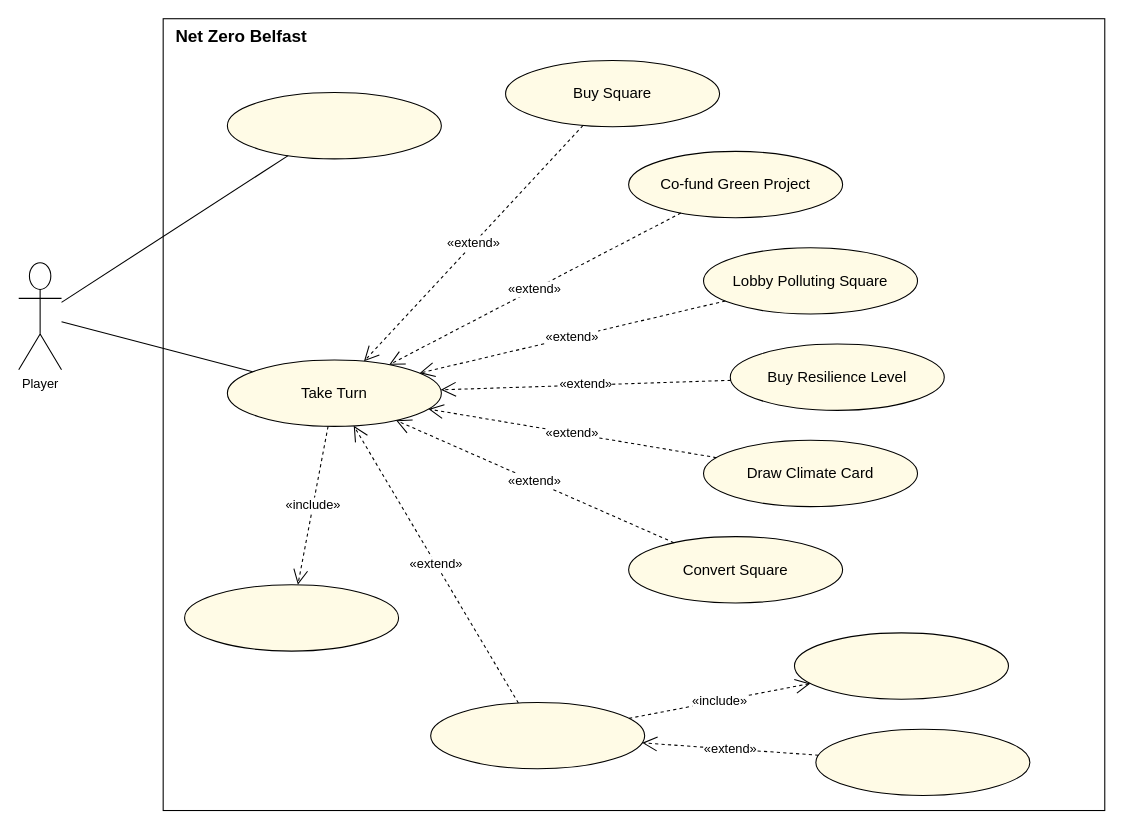
Image size: 1124x829. Some labels were removed from this diagram. The shapes that lost their labels are listed below. From the top down, each one's box as (x1, y1, x2, y2) in pixels, then its label:
(226, 91, 441, 159): Start Game
(184, 584, 399, 651): Move Player
(793, 632, 1008, 699): Resolve Disaster
(430, 701, 645, 769): End Round
(815, 728, 1030, 796): View End-of-Game Report
